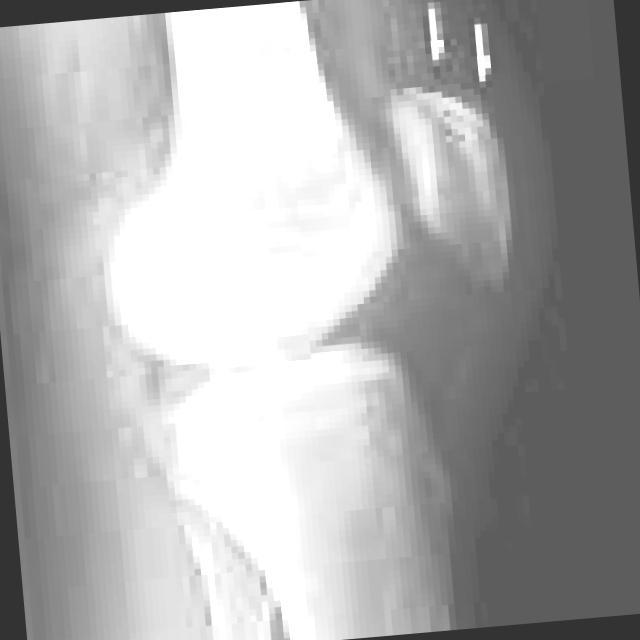Avlusion Fracture: (395, 72, 503, 173)
